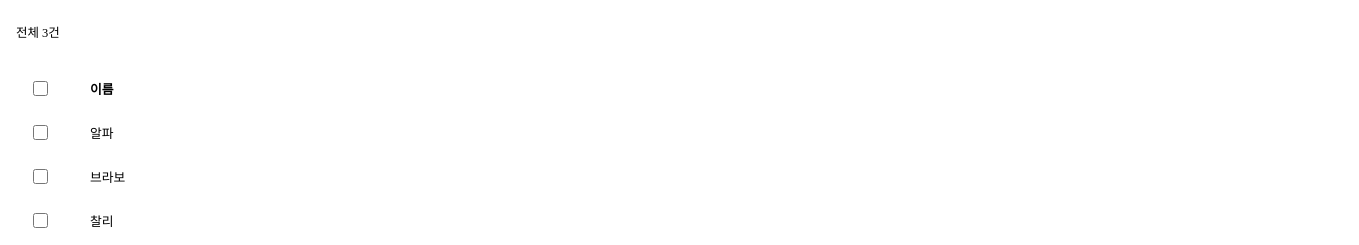
Test: DataTableBox › 삭제 콜백이 반환한 행만 선택 상태로 유지한다
The image size is (1359, 245).
Click the checkbox named "행 선택" next to "알파": {"x": 40, "y": 132} [33, 124, 48, 140]
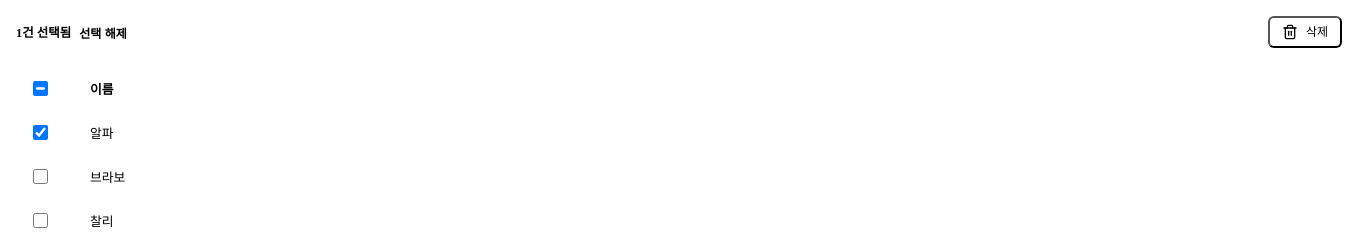
Click the checkbox named "행 선택" next to "브라보": {"x": 40, "y": 176} [33, 168, 48, 184]
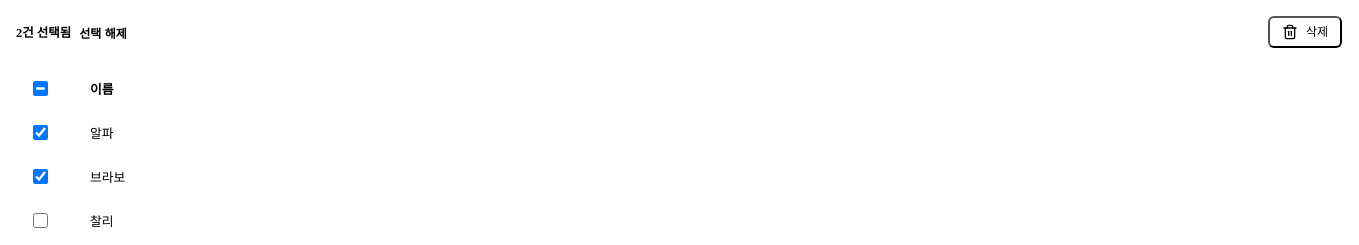
Click the button "삭제": {"x": 1305, "y": 32} [1268, 16, 1342, 48]
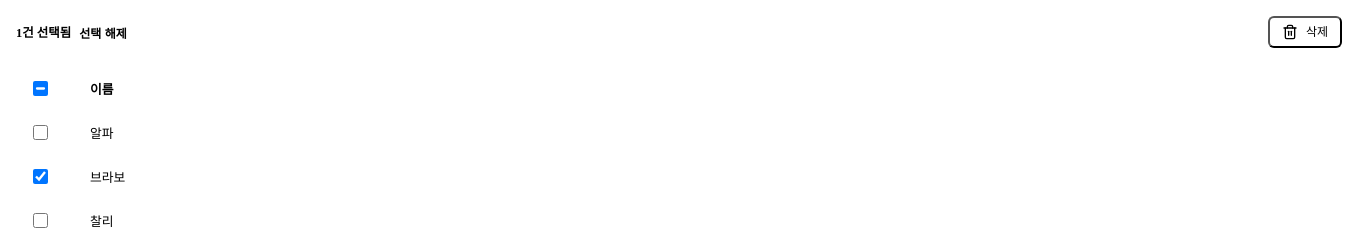
Result: the checkbox named "행 선택" next to "알파" is not checked at [33, 124, 48, 140]
Result: the checkbox named "행 선택" next to "브라보" is checked at [33, 168, 48, 184]
Result: the text "1건 선택됨" is shown at [16, 23, 71, 41]
